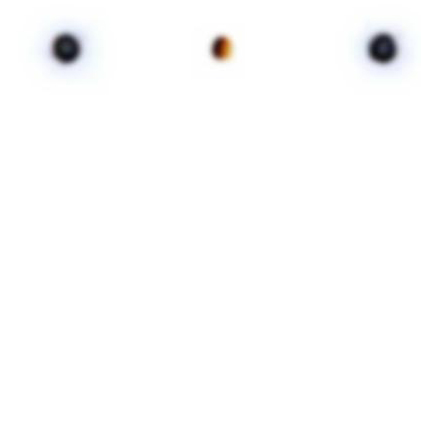cancer: (21, 13, 119, 91), (344, 14, 421, 82)
normal: (191, 22, 256, 81)
